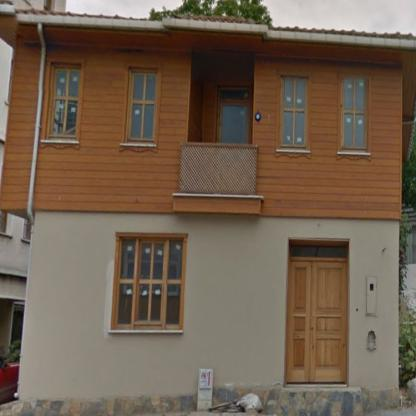door: (286, 258, 347, 382), (221, 106, 247, 143)
window: (116, 239, 182, 327), (50, 68, 78, 137), (130, 73, 157, 139), (282, 79, 305, 146), (343, 80, 365, 148), (291, 243, 347, 257), (221, 89, 248, 99)
